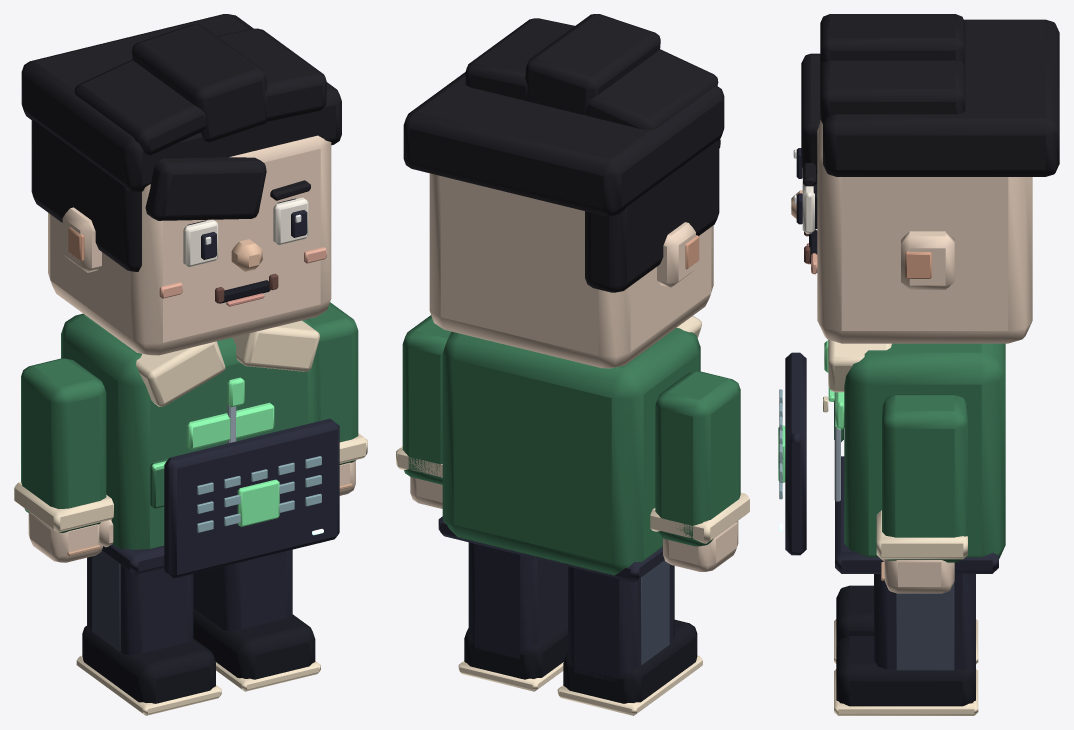
Rendered from josete.glb.
3 renders of one model, left to right at view 1: azimuth 30°, elevation 25°; view 2: azimuth 150°, elevation 25°; view 3: azimuth 270°, elevation 25°, orthographic. The views are drawn at different scales.
Visible parts, largest first — view 1: Batch_Head_CITY / #1c1c22, Batch_Head_CITY / #f1d9c5.009, Batch_Body_CITY / #3b7a57, Laptop, Arm_L_sleeve, Batch_Body_CITY / cream.009, Leg_R_trouser, Leg_L_shoe, Leg_L_trouser, Leg_R_shoe, Arm_R_sleeve, Batch_Body_CITY / #8cffb0 (+14 smaller); view 2: Batch_Head_CITY / #1c1c22, Batch_Body_CITY / #3b7a57, Batch_Head_CITY / #f1d9c5.009, Arm_L_sleeve, Leg_R_trouser, Leg_L_trouser, Arm_R_sleeve, Leg_L_shoe, Leg_R_shoe, Batch_Leg_L_CITY / #475061.009, Arm_L_hand, Batch_Arm_L_CITY / cream.009 (+5 smaller); view 3: Batch_Head_CITY / #1c1c22, Batch_Head_CITY / #f1d9c5.009, Batch_Body_CITY / #3b7a57, Arm_R_sleeve, Leg_R_shoe, Batch_Leg_R_CITY / #475061.009, Laptop, Leg_R_trouser, Batch_Body_CITY / charcoal.009, Arm_R_hand, Batch_Arm_R_CITY / cream.009, Leg_L_shoe (+6 smaller).
Boxes of the visible parts, bbox=[...] form: Batch_Head_CITY / #1c1c22: bbox=[21, 14, 341, 271]; Batch_Head_CITY / #f1d9c5.009: bbox=[48, 135, 331, 355]; Batch_Body_CITY / #3b7a57: bbox=[61, 313, 318, 549]; Laptop: bbox=[164, 418, 339, 578]; Arm_L_sleeve: bbox=[21, 358, 106, 532]; Batch_Body_CITY / cream.009: bbox=[136, 320, 319, 406]; Leg_R_trouser: bbox=[193, 549, 292, 631]; Leg_L_shoe: bbox=[82, 626, 215, 703]; Leg_L_trouser: bbox=[87, 556, 193, 655]; Leg_R_shoe: bbox=[193, 608, 315, 679]; Arm_R_sleeve: bbox=[309, 302, 358, 464]; Batch_Body_CITY / #8cffb0: bbox=[151, 377, 274, 470]; Batch_Head_CITY / #1c1c22: bbox=[403, 14, 724, 292]; Batch_Body_CITY / #3b7a57: bbox=[442, 327, 700, 575]; Batch_Head_CITY / #f1d9c5.009: bbox=[429, 173, 713, 368]; Arm_L_sleeve: bbox=[655, 371, 740, 546]; Leg_R_trouser: bbox=[468, 542, 567, 658]; Leg_L_trouser: bbox=[568, 564, 674, 682]; Arm_R_sleeve: bbox=[402, 315, 451, 484]; Leg_L_shoe: bbox=[563, 619, 697, 703]; Leg_R_shoe: bbox=[464, 621, 567, 679]; Batch_Leg_L_CITY / #475061.009: bbox=[641, 560, 669, 664]; Arm_L_hand: bbox=[663, 521, 738, 571]; Batch_Arm_L_CITY / cream.009: bbox=[650, 492, 749, 543]; Batch_Head_CITY / #1c1c22: bbox=[801, 14, 1059, 186]; Batch_Head_CITY / #f1d9c5.009: bbox=[817, 120, 1032, 343]; Batch_Body_CITY / #3b7a57: bbox=[834, 343, 1005, 558]; Arm_R_sleeve: bbox=[882, 394, 967, 562]; Leg_R_shoe: bbox=[836, 635, 975, 706]; Batch_Leg_R_CITY / #475061.009: bbox=[895, 582, 954, 670]; Laptop: bbox=[785, 352, 806, 555]; Leg_R_trouser: bbox=[874, 574, 975, 672]; Batch_Body_CITY / charcoal.009: bbox=[835, 456, 998, 573]; Arm_R_hand: bbox=[884, 559, 954, 593]; Batch_Arm_R_CITY / cream.009: bbox=[876, 510, 967, 559]; Leg_L_shoe: bbox=[836, 585, 873, 647].
Bounding box in the file's own units: 0.697 × 1.33 × 0.5225.
